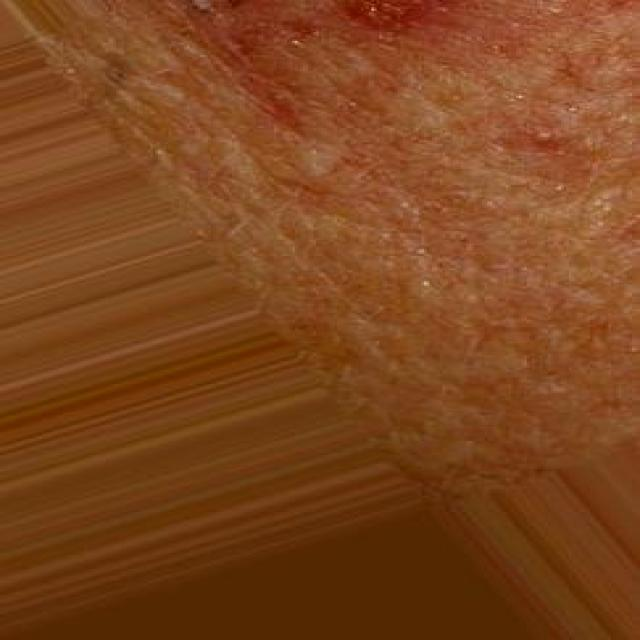Rosacea: (180, 0, 462, 129)
